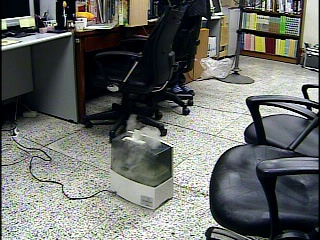smoke: (111, 117, 168, 184)
